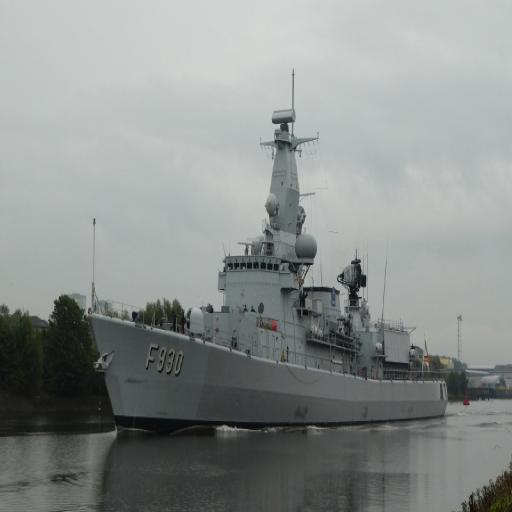Fragata: (80, 107, 453, 442)
